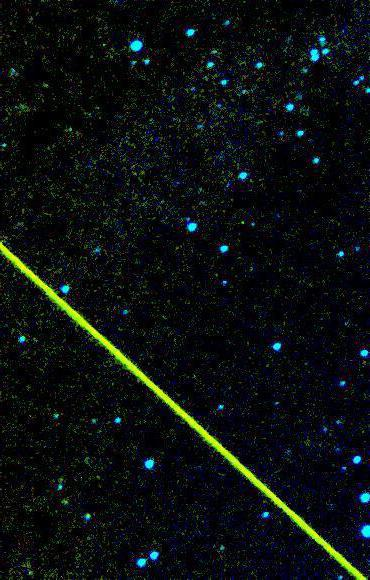star: (82, 462, 112, 492)
